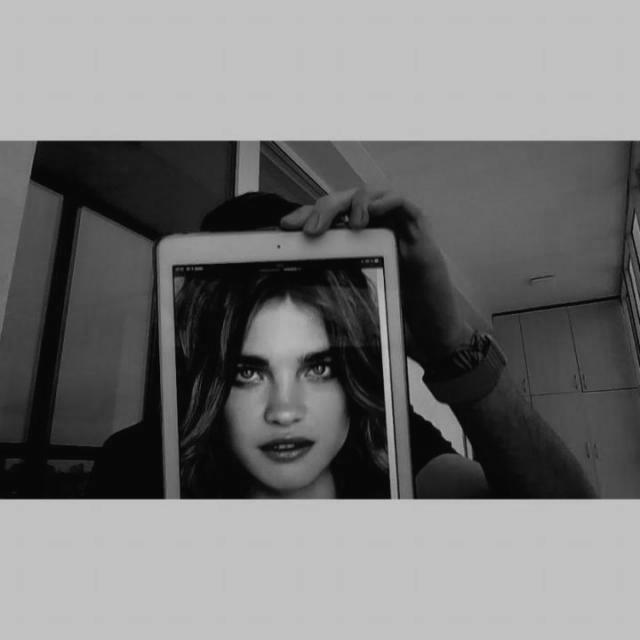fake: (149, 221, 422, 499)
